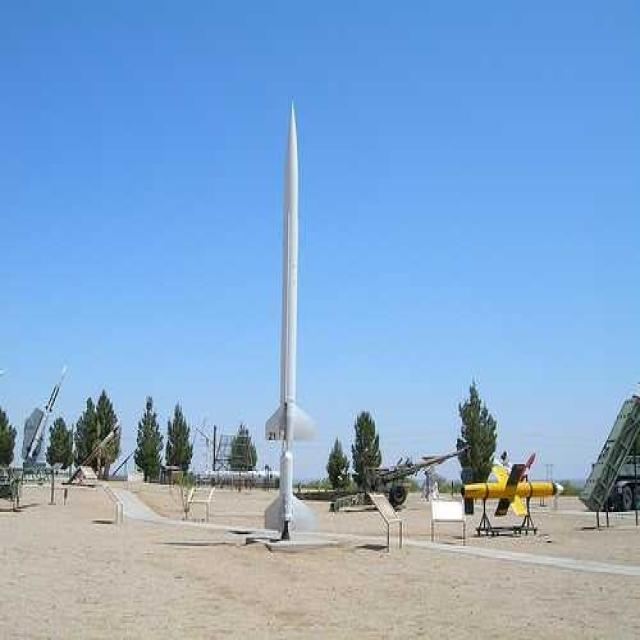missile: (265, 97, 313, 539)
